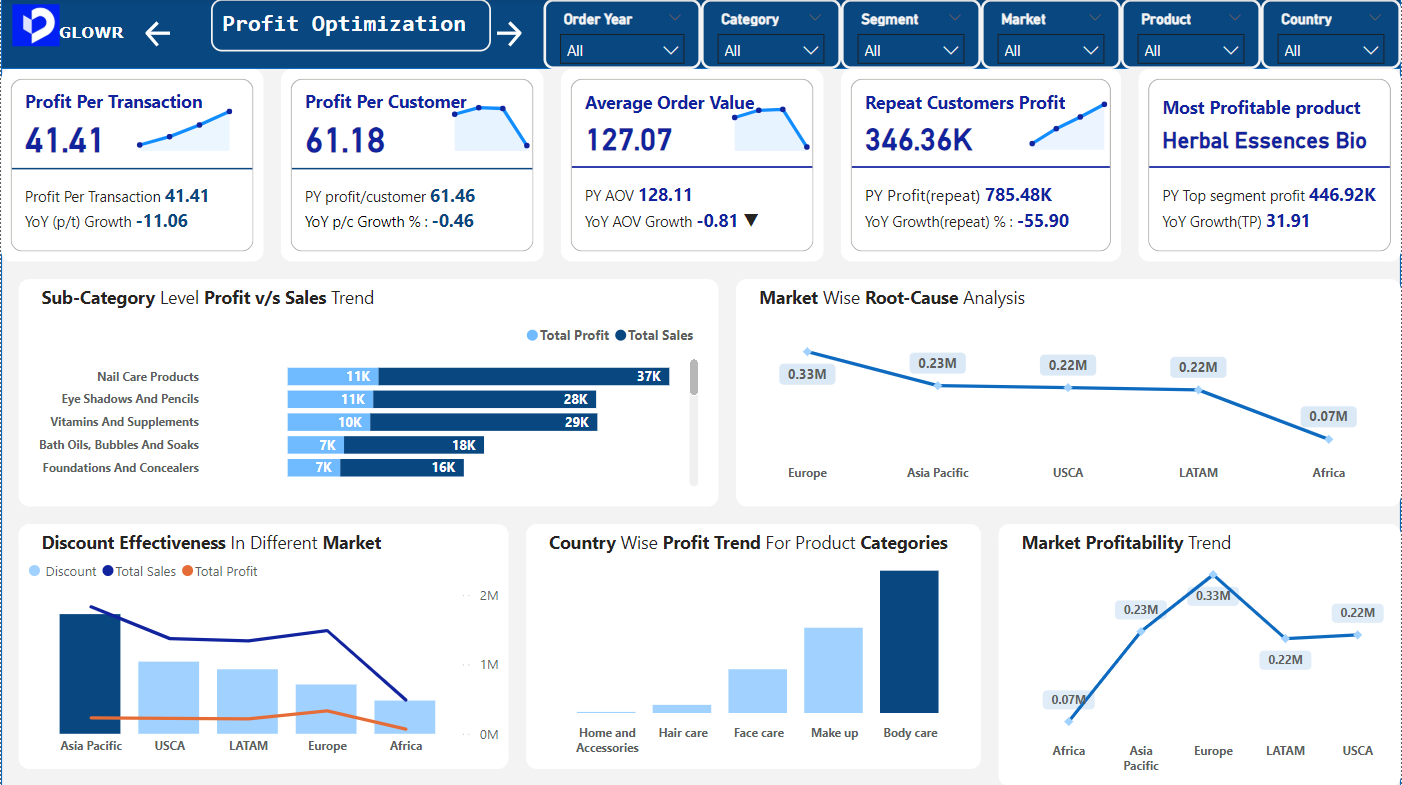

What the dashboard file says about the page in this screenshot:
{"tool":"powerbi","page":{"name":"Profitability Optimisation Analysis","canvas":[1280,720],"ordinal":5},"visuals":[{"type":"shape","box":[0,0,1280,720],"z":0},{"type":"shape","box":[0,0,1280,64],"z":1000},{"type":"image","box":[0,0,64,48],"z":2000},{"type":"textbox","box":[48,16,80,32],"z":3000},{"type":"slicer","fields":{"Values":["Category.Category"]},"box":[640,0,128,64],"z":4000},{"type":"slicer","fields":{"Values":["Market.Market"]},"box":[896,0,128,64],"z":5000},{"type":"slicer","fields":{"Values":["Segment.Segment"]},"box":[768,0,128,64],"z":6000},{"type":"slicer","fields":{"Values":["Products.Product"]},"box":[1024,0,128,64],"z":7000},{"type":"slicer","fields":{"Values":["Country.Country"]},"box":[1152,0,128,64],"z":8000},{"type":"slicer","fields":{"Values":["Date.Order Year"]},"box":[496,0,144,64],"z":9000},{"type":"textbox","box":[192,0,256,48],"z":10000},{"type":"cardVisual","fields":{"Data":["Category.Profit Per Transaction"]},"box":[0,64,240,176],"z":11000},{"type":"cardVisual","fields":{"Data":["Category.Profit Per Customer"]},"box":[256,64,240,176],"z":12000},{"type":"lineChart","fields":{"Category":["Date.Order Year"],"Y":["Sum(Fact Table.Sales)"]},"box":[112,80,112,64],"z":13000},{"type":"lineChart","fields":{"Category":["Date.Order Year"],"Y":["Category.Profit Per Customer"]},"box":[400,80,96,64],"z":14000},{"type":"cardVisual","fields":{"Data":["Category.Average Order Value"]},"box":[512,64,240,176],"z":15000},{"type":"cardVisual","fields":{"Data":["Category.Repeat Customers Revenue"]},"box":[768,64,256,176],"z":16000},{"type":"lineChart","fields":{"Category":["Date.Order Year"],"Y":["Category.Repeat Customers Profit"]},"box":[928,80,96,64],"z":17000},{"type":"cardVisual","fields":{"Data":["Category.Most Profitable product"]},"box":[1040,64,240,176],"z":18000},{"type":"lineChart","fields":{"Category":["Date.Order Year"],"Y":["Category.Average Order Value"]},"box":[656,80,96,64],"z":19000},{"type":"barChart","title":" ","fields":{"Category":["Sub Category.Subcategory","Products.Product"],"Y":["Category.Total Profit","Fact Table.total sales"]},"box":[16,256,640,208],"z":20000},{"type":"lineChart","title":" ","fields":{"Category":["Market.Market","Region.Region","State.State","City.City","Category.Category"],"Y":["Category.Total Profit"]},"box":[672,256,608,208],"z":21000},{"type":"lineStackedColumnComboChart","title":" ","fields":{"Y2":["Fact Table.total sales","Category.Total Profit"],"Y":["Sum(Fact Table.Discount)"],"Category":["Market.Market"]},"box":[16,480,448,224],"z":22000},{"type":"clusteredColumnChart","title":" ","fields":{"Category":["Category.Category","Country.Country"],"Y":["Category.Total Profit"]},"box":[480,480,416,224],"z":23000},{"type":"lineChart","title":" ","fields":{"Category":["Market.Market","Category.Category","Sub Category.Subcategory","Date.Order Year"],"Y":["Category.Total Profit"]},"box":[912,480,368,240],"z":24000},{"type":"textbox","box":[32,256,352,32],"z":25000},{"type":"textbox","box":[688,256,352,32],"z":26000},{"type":"textbox","box":[32,480,352,32],"z":27000},{"type":"textbox","box":[496,480,384,32],"z":28000},{"type":"textbox","box":[928,480,224,32],"z":29000},{"type":"actionButton","box":[448,16,32,32],"z":30000},{"type":"actionButton","box":[128,16,48,32],"z":31000}]}

Visuals, with their boxes in screenshot pixels (x1, y1, x2, y2), scaled from the page's 1280x720 canvas onto the 1402x785 screenshot:
shape: region(0, 0, 1401, 784)
shape: region(0, 0, 1401, 70)
image: region(0, 0, 70, 52)
textbox: region(53, 17, 140, 52)
slicer - Category.Category: region(701, 0, 841, 70)
slicer - Market.Market: region(981, 0, 1122, 70)
slicer - Segment.Segment: region(841, 0, 981, 70)
slicer - Products.Product: region(1122, 0, 1262, 70)
slicer - Country.Country: region(1262, 0, 1401, 70)
slicer - Date.Order Year: region(543, 0, 701, 70)
textbox: region(210, 0, 491, 52)
cardVisual - Category.Profit Per Transaction: region(0, 70, 263, 262)
cardVisual - Category.Profit Per Customer: region(280, 70, 543, 262)
lineChart - Date.Order Year x Sum(Fact Table.Sales): region(123, 87, 245, 157)
lineChart - Date.Order Year x Category.Profit Per Customer: region(438, 87, 543, 157)
cardVisual - Category.Average Order Value: region(561, 70, 824, 262)
cardVisual - Category.Repeat Customers Revenue: region(841, 70, 1122, 262)
lineChart - Date.Order Year x Category.Repeat Customers Profit: region(1016, 87, 1122, 157)
cardVisual - Category.Most Profitable product: region(1139, 70, 1401, 262)
lineChart - Date.Order Year x Category.Average Order Value: region(719, 87, 824, 157)
" " barChart: region(18, 279, 719, 506)
" " lineChart: region(736, 279, 1401, 506)
" " lineStackedColumnComboChart: region(18, 523, 508, 768)
" " clusteredColumnChart: region(526, 523, 981, 768)
" " lineChart: region(999, 523, 1401, 784)
textbox: region(35, 279, 421, 314)
textbox: region(754, 279, 1139, 314)
textbox: region(35, 523, 421, 558)
textbox: region(543, 523, 964, 558)
textbox: region(1016, 523, 1262, 558)
actionButton: region(491, 17, 526, 52)
actionButton: region(140, 17, 193, 52)
